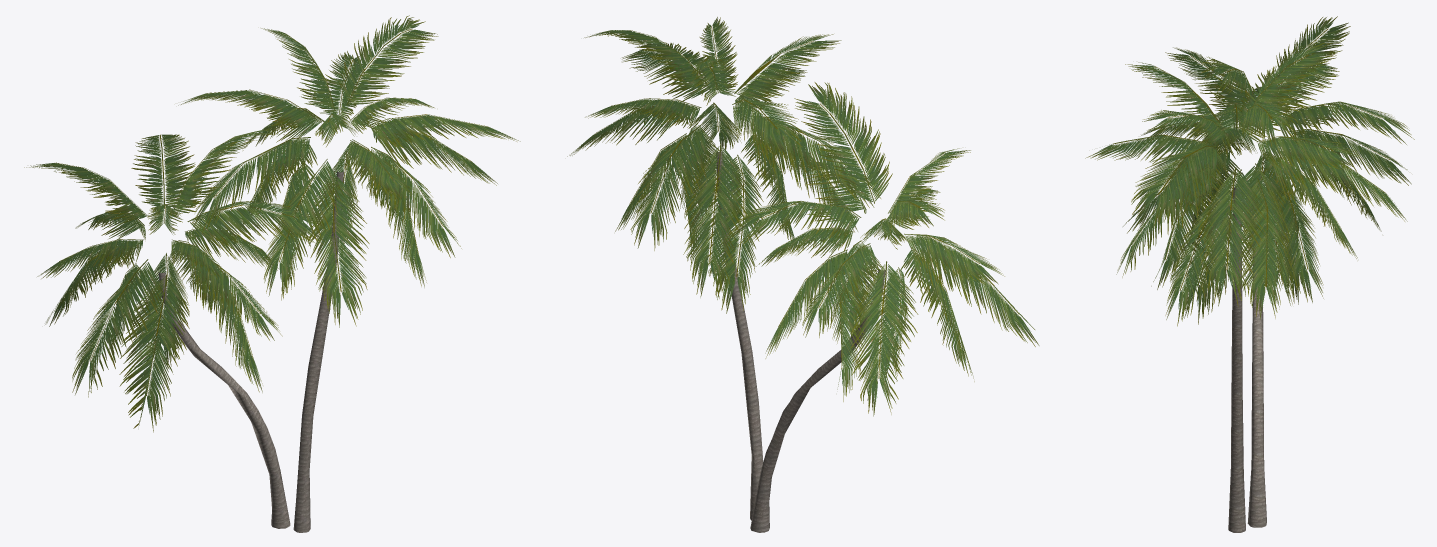
Rendered from bay-coconut-palm.lod1.glb.
The picture shows the model from 3 angles, left to right: view 1: azimuth 30°, elevation 25°; view 2: azimuth 150°, elevation 25°; view 3: azimuth 270°, elevation 25°; orthographic projection. The views are drawn at different scales.
Parts seen in each view (by area): view 1: Tree_2_Tree_2Mat_0, Tree_0_Tree_0Mat_0; view 2: Tree_2_Tree_2Mat_0, Tree_0_Tree_0Mat_0; view 3: Tree_2_Tree_2Mat_0, Tree_0_Tree_0Mat_0.
Boxes of the visible parts, box(x1,y1,x2,y2) form: Tree_2_Tree_2Mat_0: box(24, 15, 520, 432); Tree_0_Tree_0Mat_0: box(158, 171, 343, 532); Tree_2_Tree_2Mat_0: box(567, 17, 1039, 416); Tree_0_Tree_0Mat_0: box(716, 150, 885, 532); Tree_2_Tree_2Mat_0: box(1085, 16, 1414, 326); Tree_0_Tree_0Mat_0: box(1228, 178, 1266, 532).
Bounding box in the file's own units: 7.51 × 7.5 × 4.8.
Materials: 2 (2 with a texture image).
